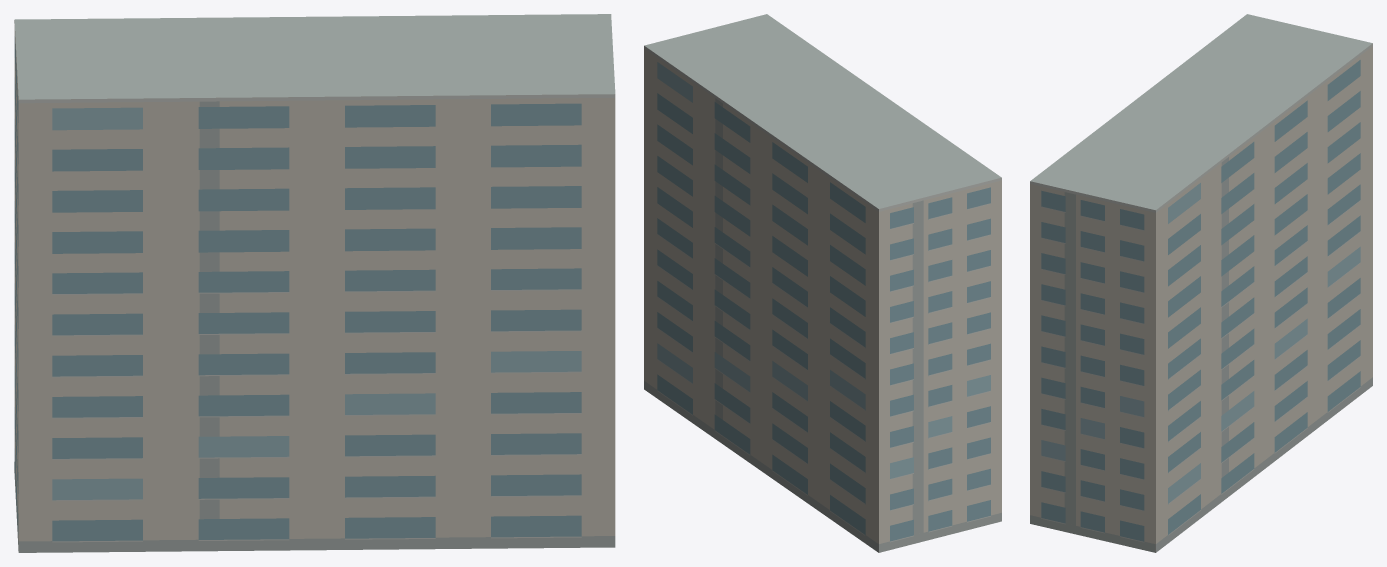
File: residential-7e0bd656-2ca7-49de-9b5f-c240e2a77695.glb
3 renders of one model, left to right at view 1: azimuth 30°, elevation 25°; view 2: azimuth 150°, elevation 25°; view 3: azimuth 270°, elevation 25°, orthographic. The views are drawn at different scales.
Visible parts, largest first — view 1: residential-7e0bd656-2ca7-49de-9b5f-c240e2a77695.tmp; view 2: residential-7e0bd656-2ca7-49de-9b5f-c240e2a77695.tmp; view 3: residential-7e0bd656-2ca7-49de-9b5f-c240e2a77695.tmp.
Part boxes in pixels (x1,y1,x2,y2): residential-7e0bd656-2ca7-49de-9b5f-c240e2a77695.tmp: [14, 14, 615, 552]; residential-7e0bd656-2ca7-49de-9b5f-c240e2a77695.tmp: [644, 14, 1001, 552]; residential-7e0bd656-2ca7-49de-9b5f-c240e2a77695.tmp: [1030, 14, 1372, 552].
Size of the model in its own units: 36.86 by 30 by 27.21.
